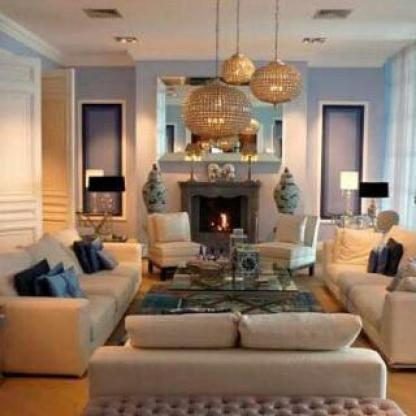fire: (212, 207, 233, 234)
